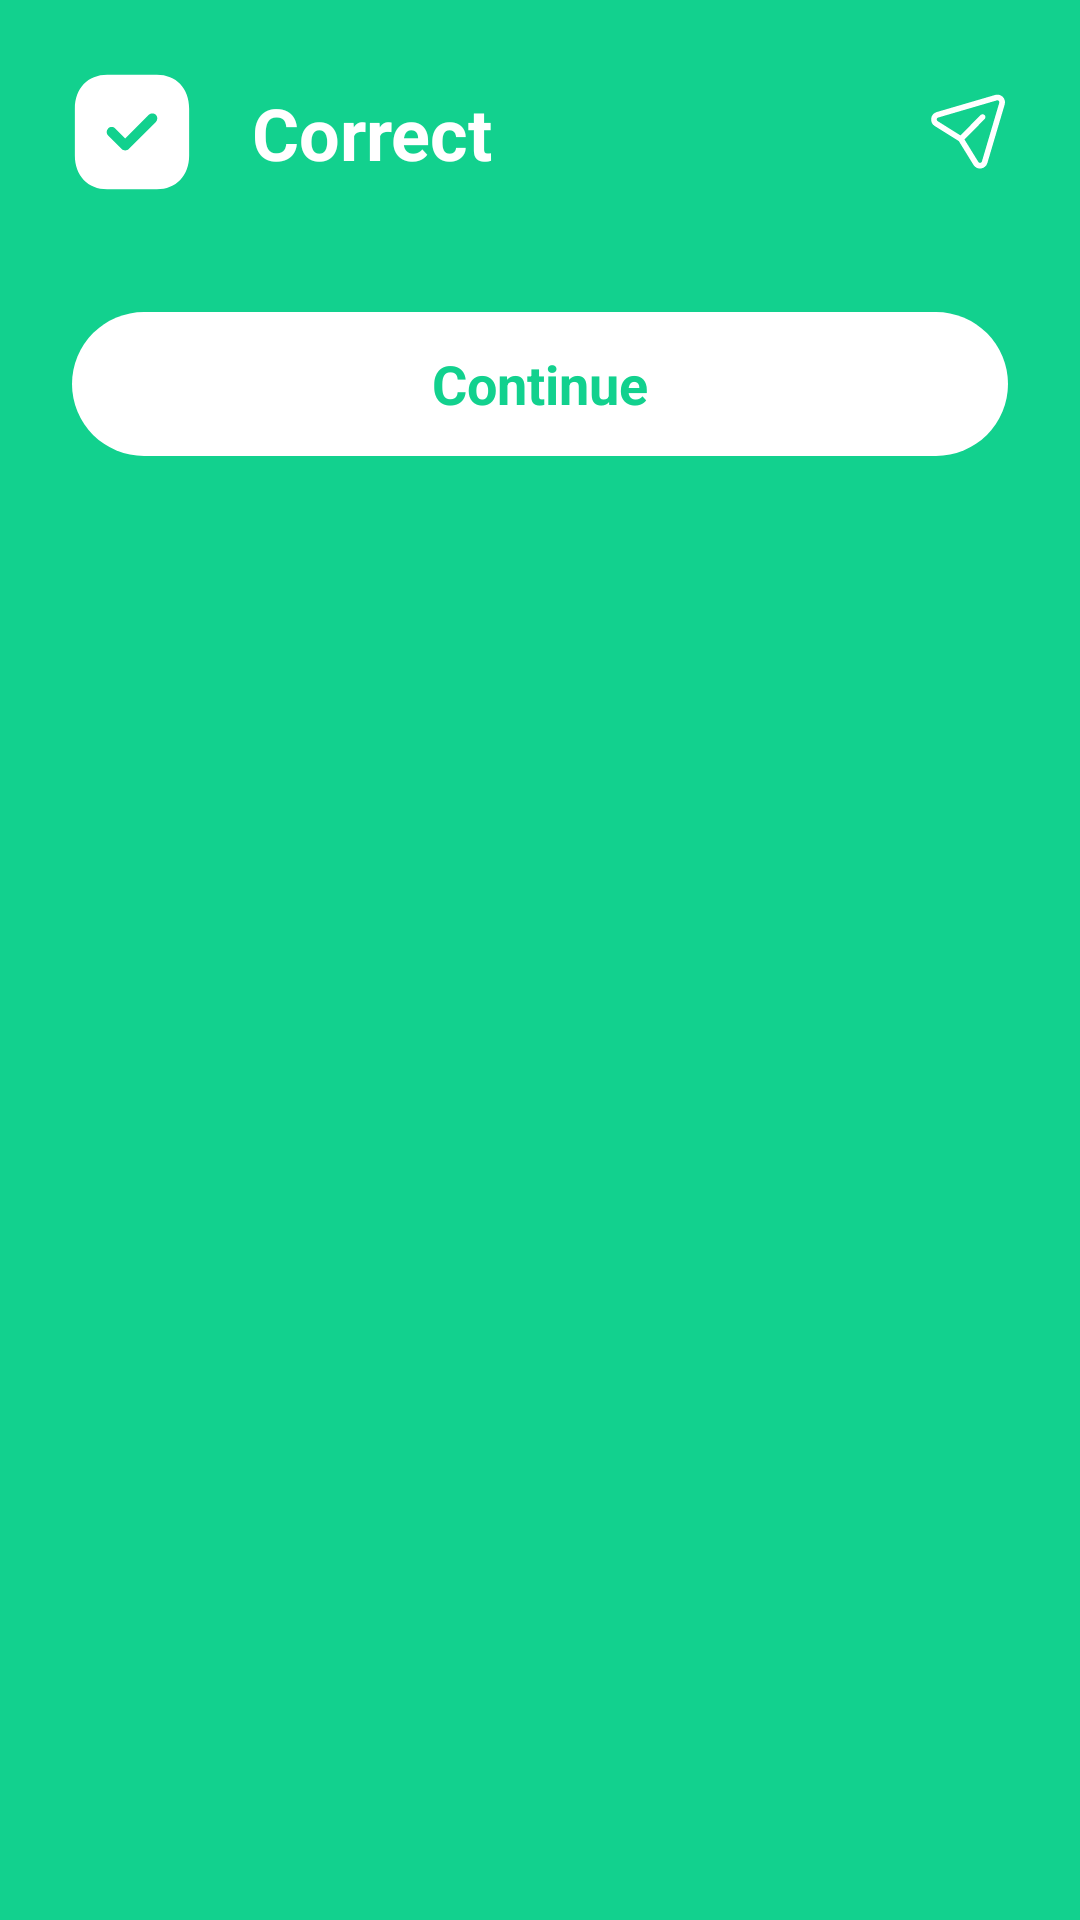

Icons on this 1080 × 1920 Android screen, each with the point to tap as point (x, y):
share: point (968, 131)
